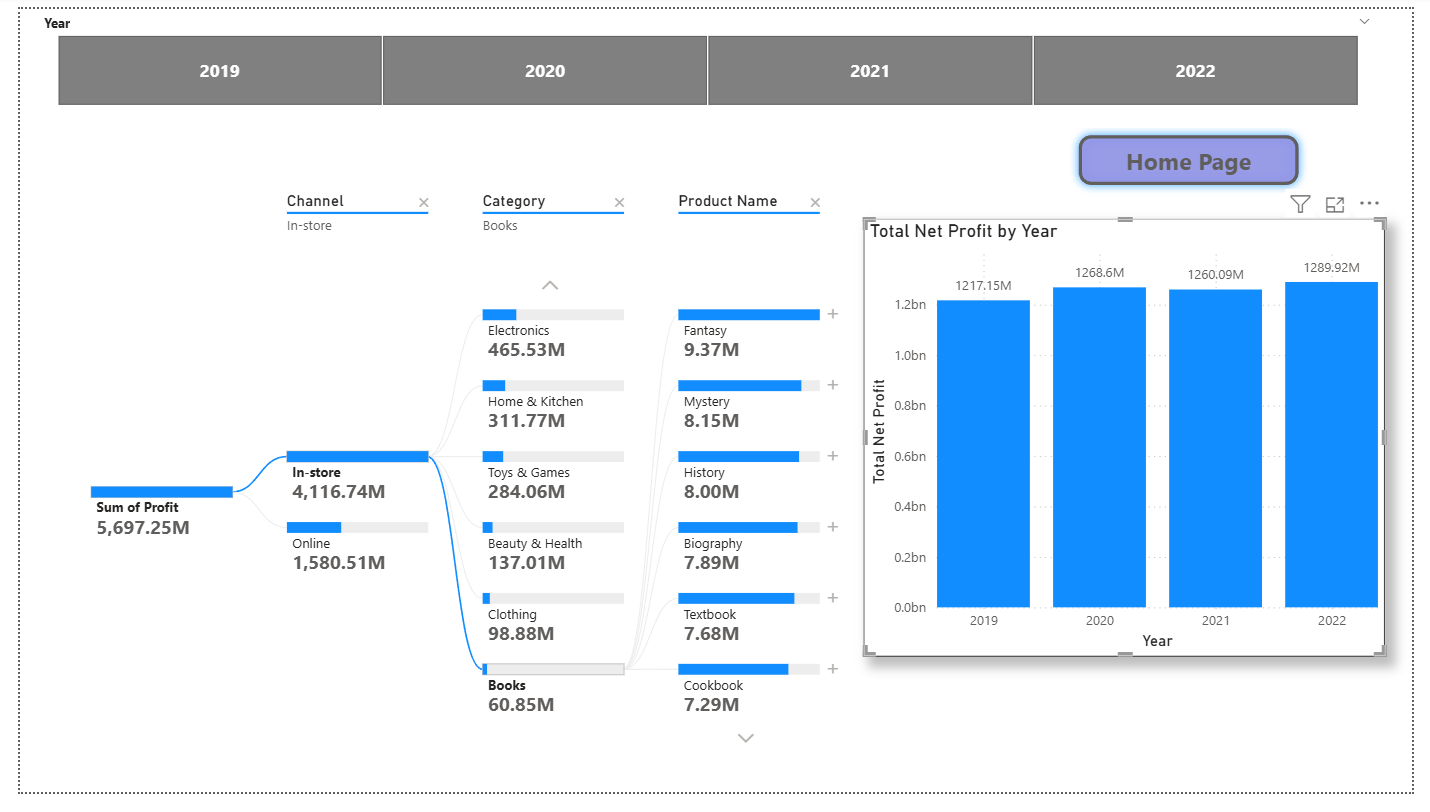

The dashboard page shown, as its layout file describes it:
{"tool":"powerbi","page":{"name":"Root Cause Analysis","canvas":[1280,720],"ordinal":3},"visuals":[{"type":"textbox","box":[9.6,0,279.9,61.7],"z":0},{"type":"decompositionTreeVisual","fields":{"Analyze":["Sum(Sales Report.Profit)"],"ExplainBy":["Sales Report.Channel","Products.Category","Products.Product Name","Dates.Year"]},"box":[36.1,151.6,740.5,568.7],"z":1000},{"type":"slicer","fields":{"Values":["Dates.Year"]},"box":[9.6,0,1244.6,94.7],"z":2000},{"type":"actionButton","box":[966,108.4,218.2,61.7],"z":3000},{"type":"clusteredColumnChart","fields":{"Category":["Dates.Year"],"Y":["Sales Report.Total Net Profit"]},"box":[810.3,204.6,431,409.2],"z":4000}]}

Visuals, with their boxes in screenshot pixels (x1, y1, x2, y2), scaled from the page's 1280x720 canvas onto the 1430x812 screenshot:
textbox: (left=11, top=0, right=323, bottom=70)
decompositionTreeVisual - Sum(Sales Report.Profit) x Sales Report.Channel: (left=40, top=171, right=868, bottom=811)
slicer - Dates.Year: (left=11, top=0, right=1401, bottom=107)
actionButton: (left=1079, top=122, right=1323, bottom=192)
clusteredColumnChart - Dates.Year x Sales Report.Total Net Profit: (left=905, top=231, right=1387, bottom=692)
